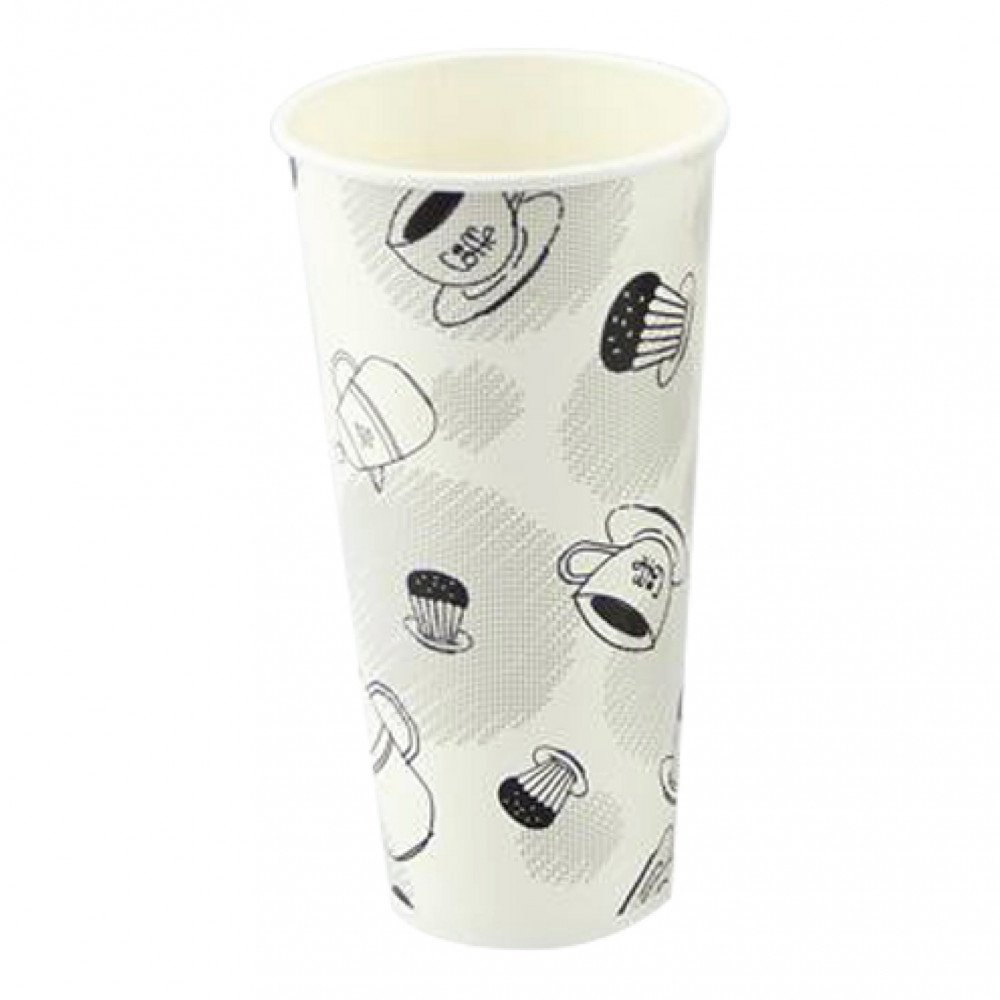PaperCup: (268, 47, 732, 956)
